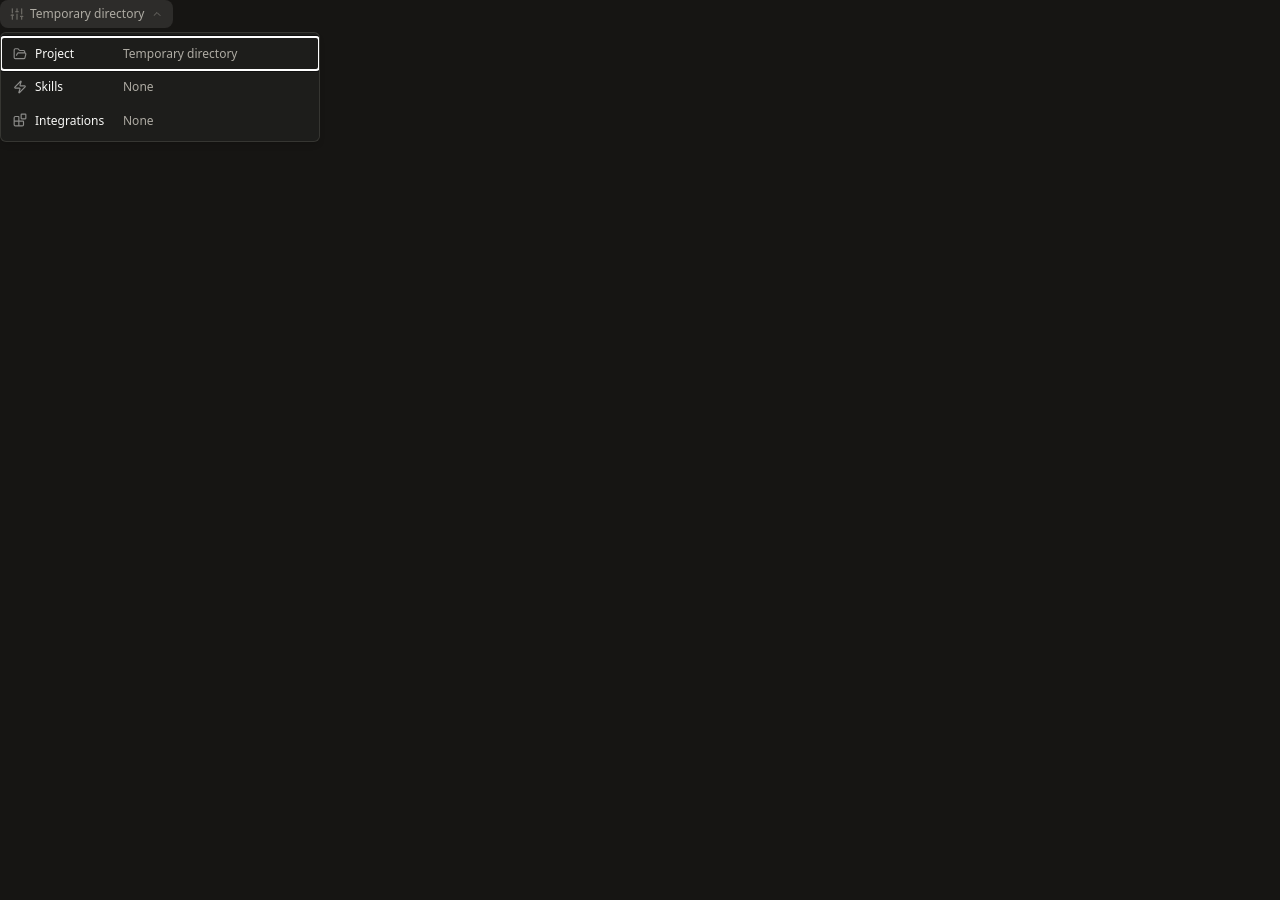
ConfigMenu — unlocked project (regression guard) › says who does the picking, on the row itself rather than in a tooltip
This screenshot has width=1280, height=900.
Click the text "Project": (55, 54) [35,45,74,62]
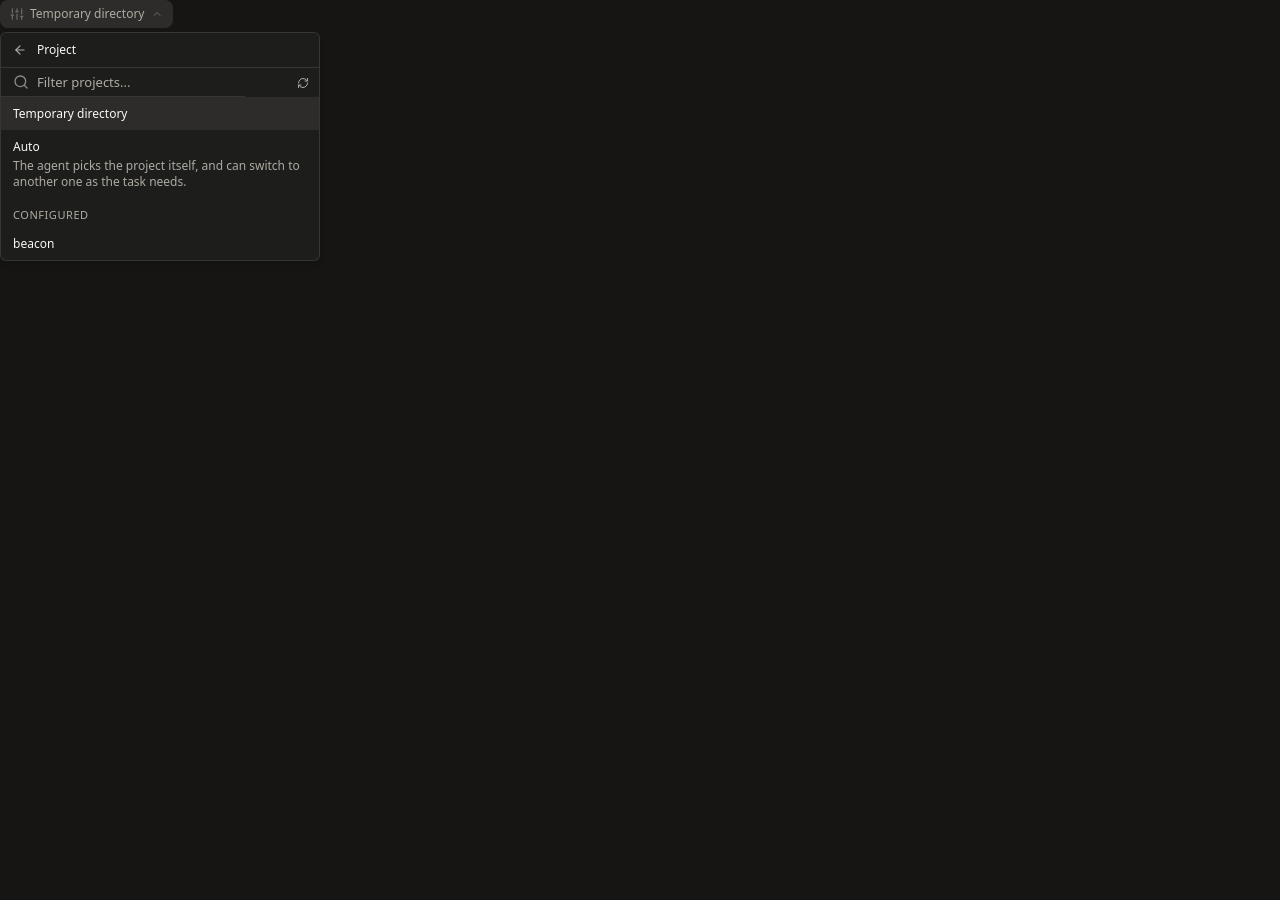
Check: the text "The agent picks the project itself, and can switch to another one as the task needs." is shown, box [13,157,300,190]
